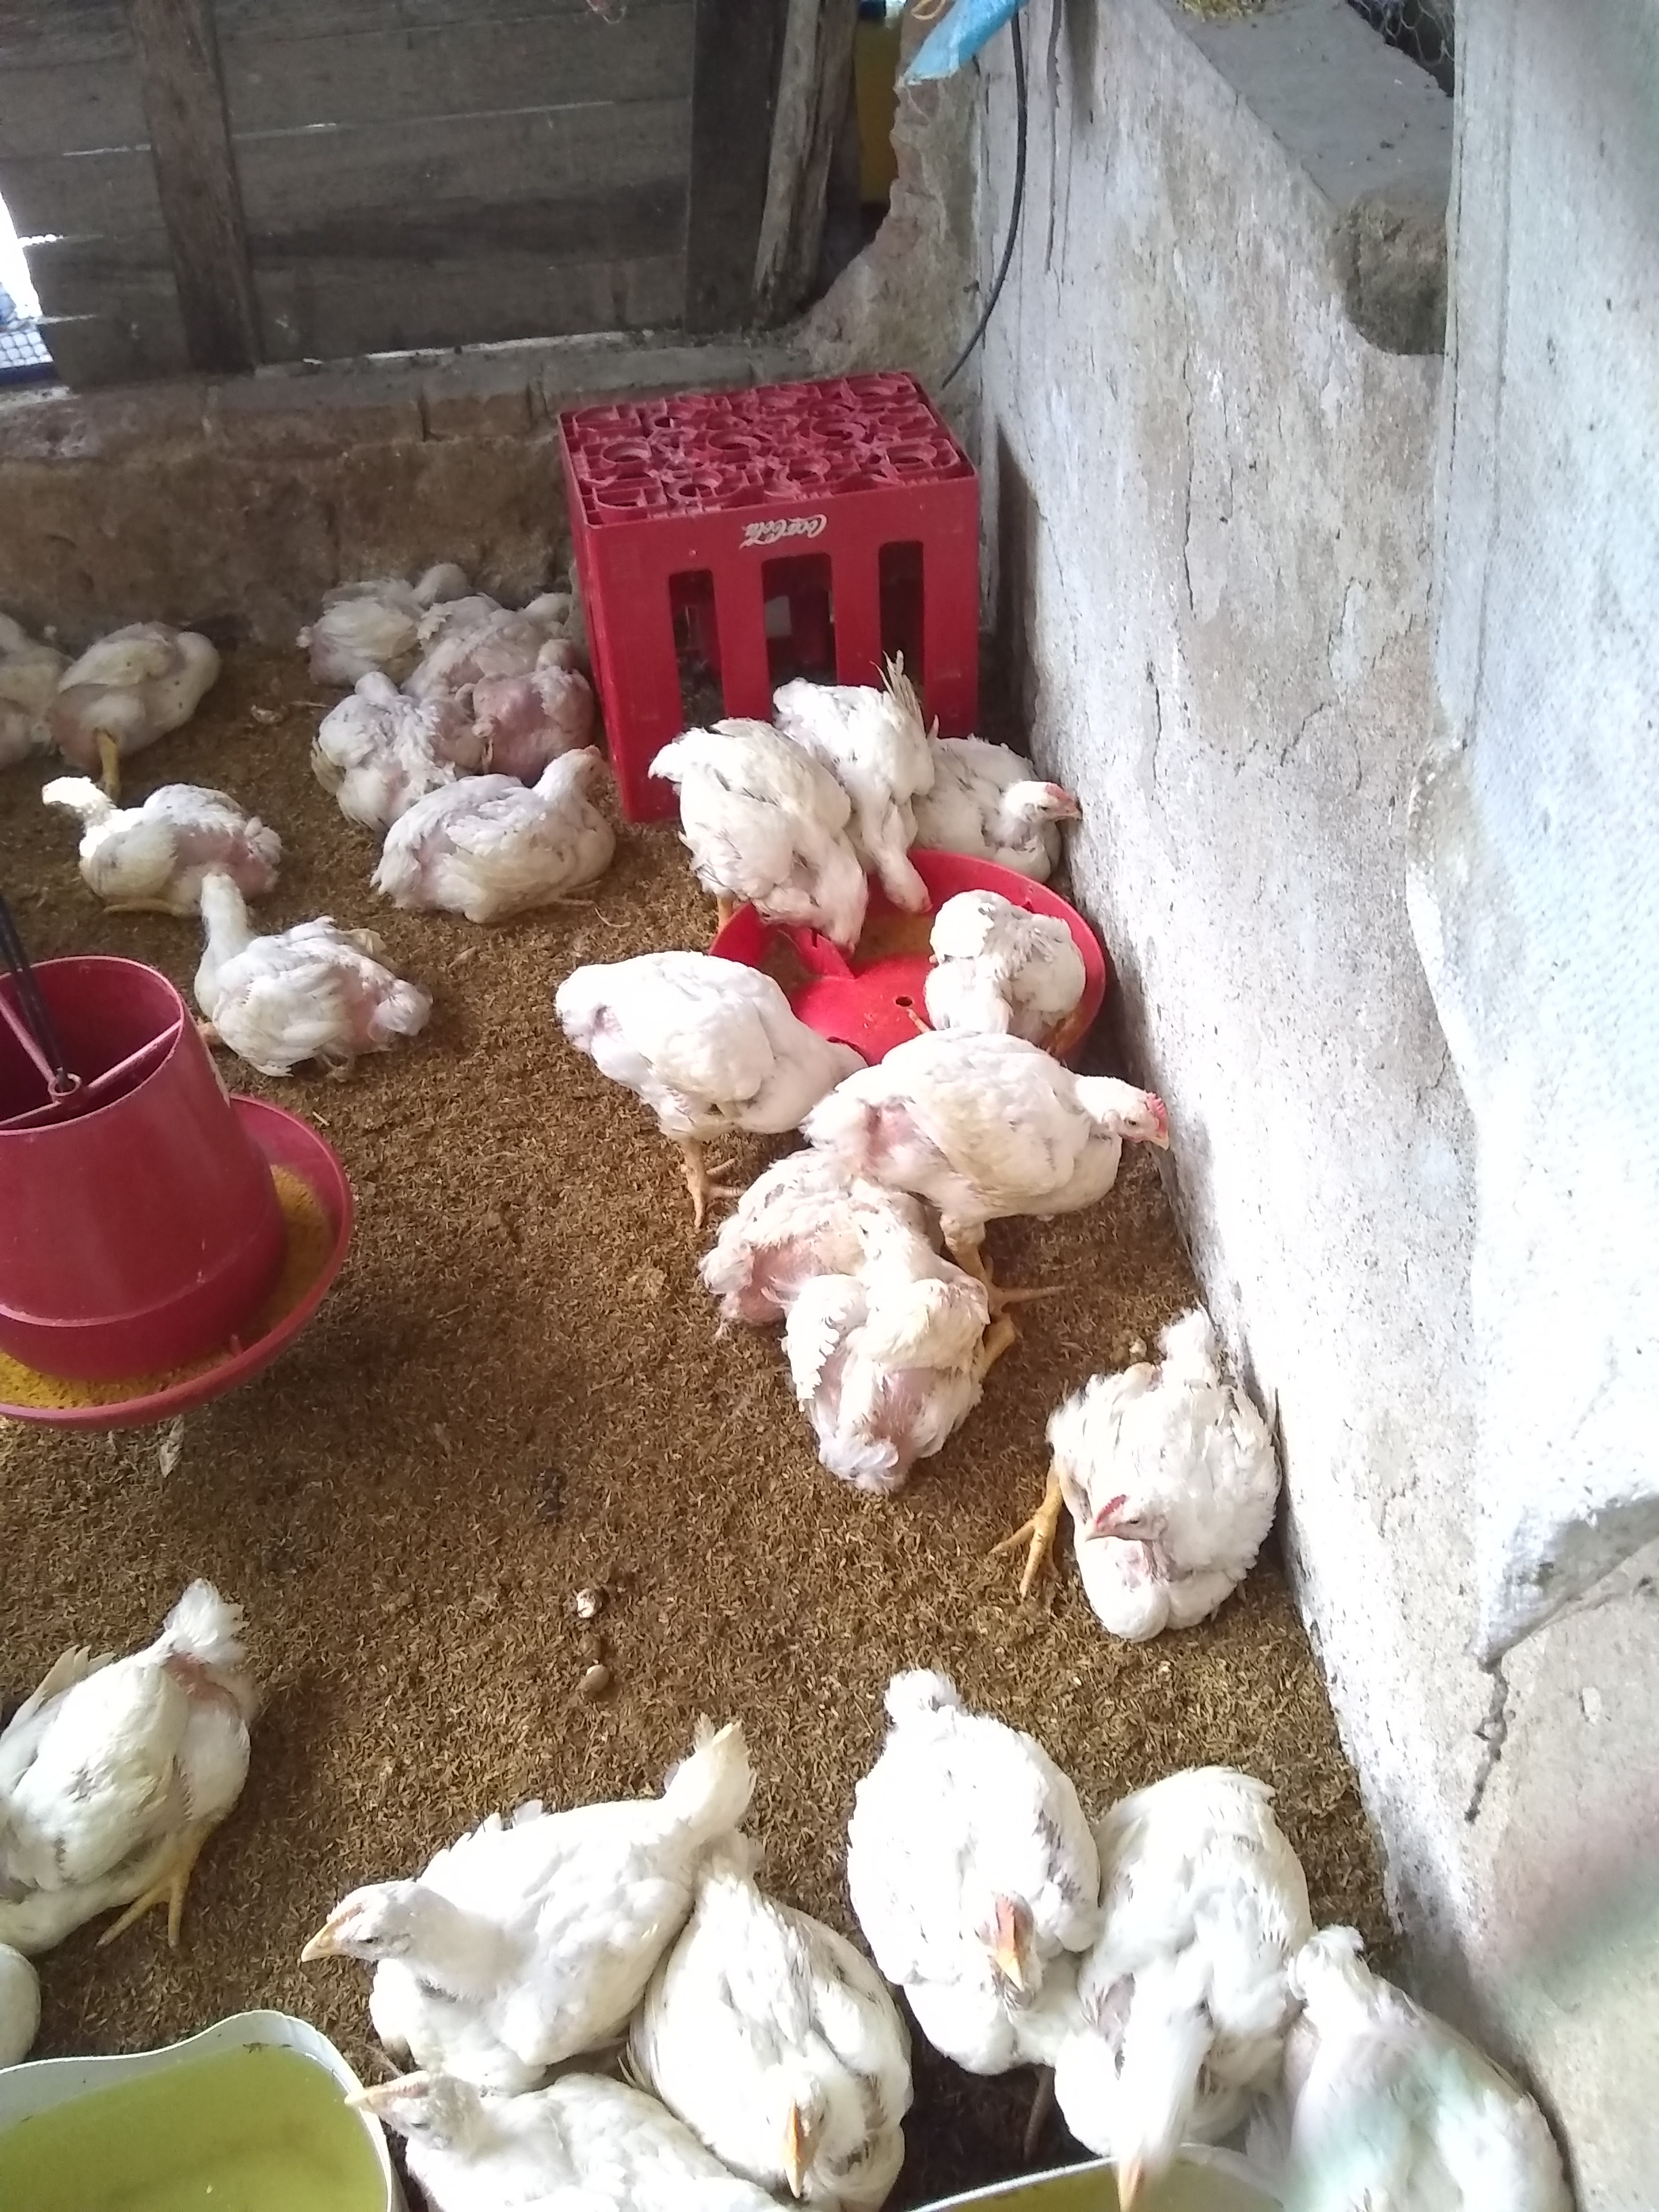Pollos: (1086, 1782, 1290, 2202), (300, 1804, 669, 2026), (864, 1677, 1084, 2047), (676, 1865, 908, 2184), (824, 1024, 1176, 1223), (1046, 1325, 1272, 1632), (558, 942, 816, 1136), (178, 871, 432, 1062), (782, 1204, 948, 1498), (342, 2069, 676, 2212), (685, 738, 866, 954), (376, 740, 612, 906), (31, 611, 213, 779), (823, 672, 938, 911), (35, 779, 279, 874), (934, 733, 1082, 871), (324, 672, 436, 794), (429, 583, 570, 665)
